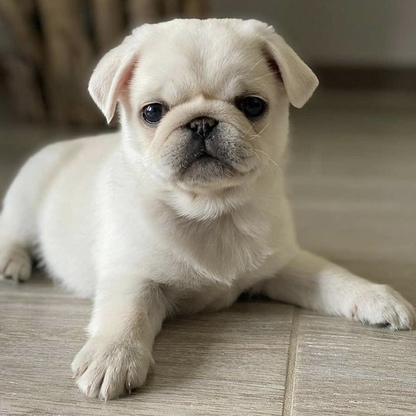Pug: (1, 13, 415, 405)
